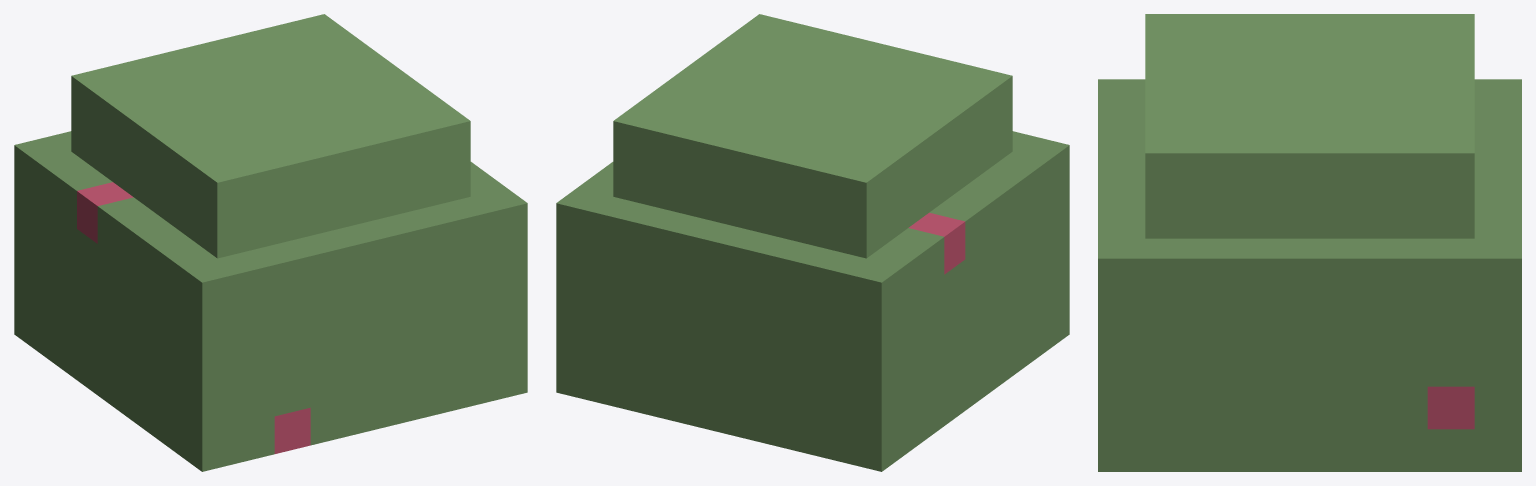
Rendered from frambuesa_05.glb.
3 views of the same model, side by side, from view 1: azimuth 30°, elevation 25°; view 2: azimuth 150°, elevation 25°; view 3: azimuth 270°, elevation 25° (orthographic). The views are drawn at different scales.
Visible parts, largest first — view 1: frambuesa_05; view 2: frambuesa_05; view 3: frambuesa_05.
Part boxes in pixels (x1,y1,x2,y2): frambuesa_05: (14, 14, 527, 471); frambuesa_05: (556, 14, 1069, 471); frambuesa_05: (1098, 14, 1521, 471).
Bounding box in the file's own units: 0.9 × 0.7 × 0.9.
